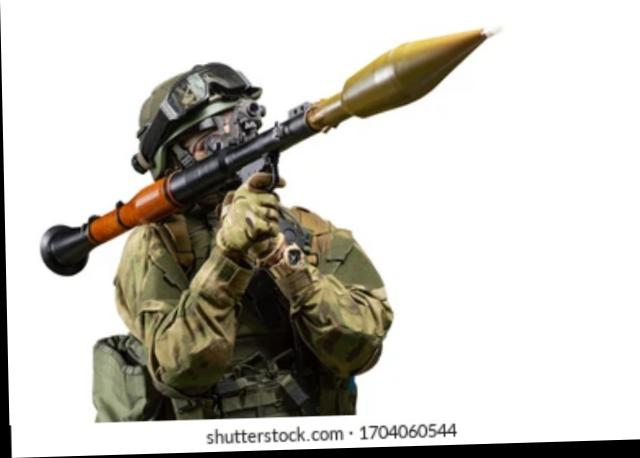other: (81, 59, 389, 426)
